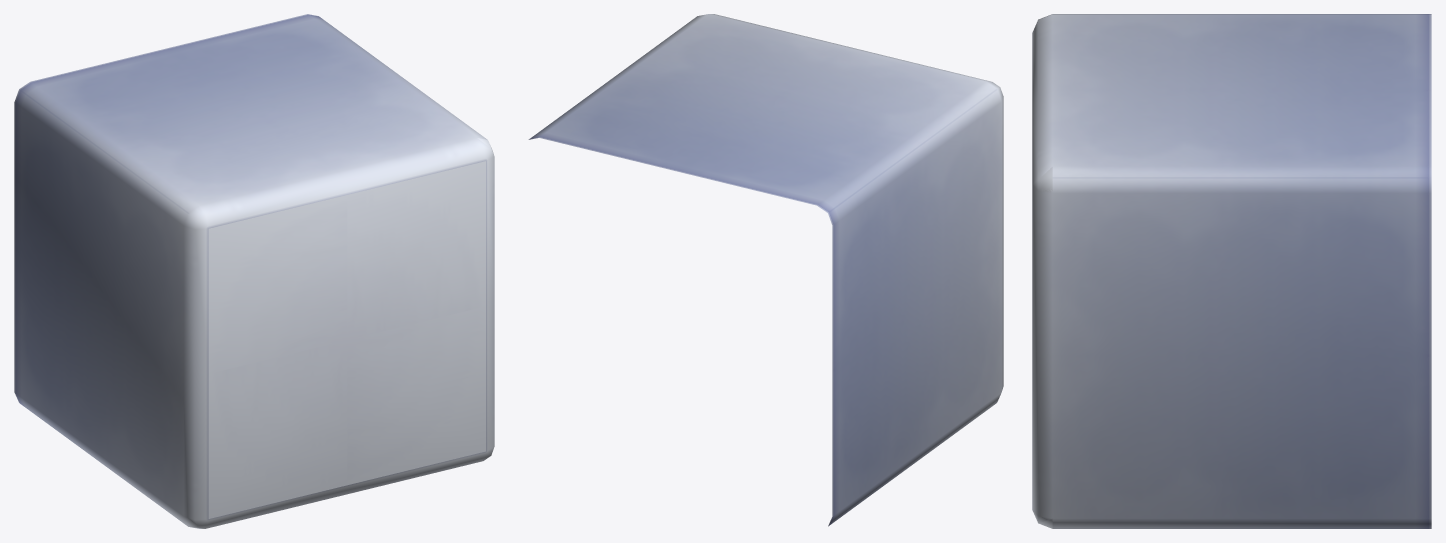
Rendered from single_unit_block.glb.
3 views of the same model, side by side, from view 1: azimuth 30°, elevation 25°; view 2: azimuth 150°, elevation 25°; view 3: azimuth 270°, elevation 25° (orthographic). The views are drawn at different scales.
Parts seen in each view (by area): view 1: rsrc.world.tileset.whitespace.single_unit_block-Submesh[0], rsrc.world.tileset.whitespace.single_unit_block-Submesh[1]; view 2: rsrc.world.tileset.whitespace.single_unit_block-Submesh[0]; view 3: rsrc.world.tileset.whitespace.single_unit_block-Submesh[0].
Boxes of the visible parts, bbox=[...] form: rsrc.world.tileset.whitespace.single_unit_block-Submesh[0]: bbox=[14, 14, 494, 528]; rsrc.world.tileset.whitespace.single_unit_block-Submesh[1]: bbox=[208, 138, 493, 518]; rsrc.world.tileset.whitespace.single_unit_block-Submesh[0]: bbox=[528, 14, 1003, 526]; rsrc.world.tileset.whitespace.single_unit_block-Submesh[0]: bbox=[1032, 14, 1431, 528].
Bounding box in the file's own units: 1 × 1 × 1.
Materials: 2 (2 with a texture image).
